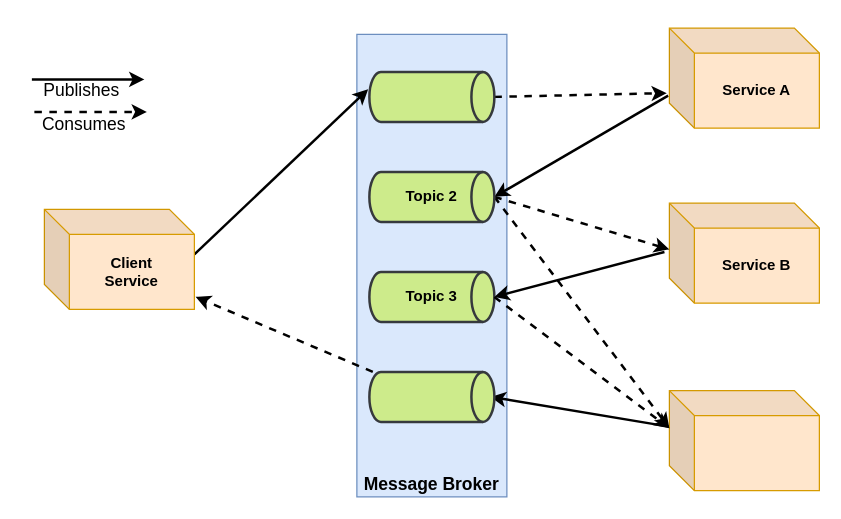
This 841x519 diagram has some shape labels left out. Each missing label, with the box of its shape:
Service C: (668, 389, 819, 491)
Topic 1: (368, 70, 495, 122)
Topic 4: (368, 370, 495, 422)
